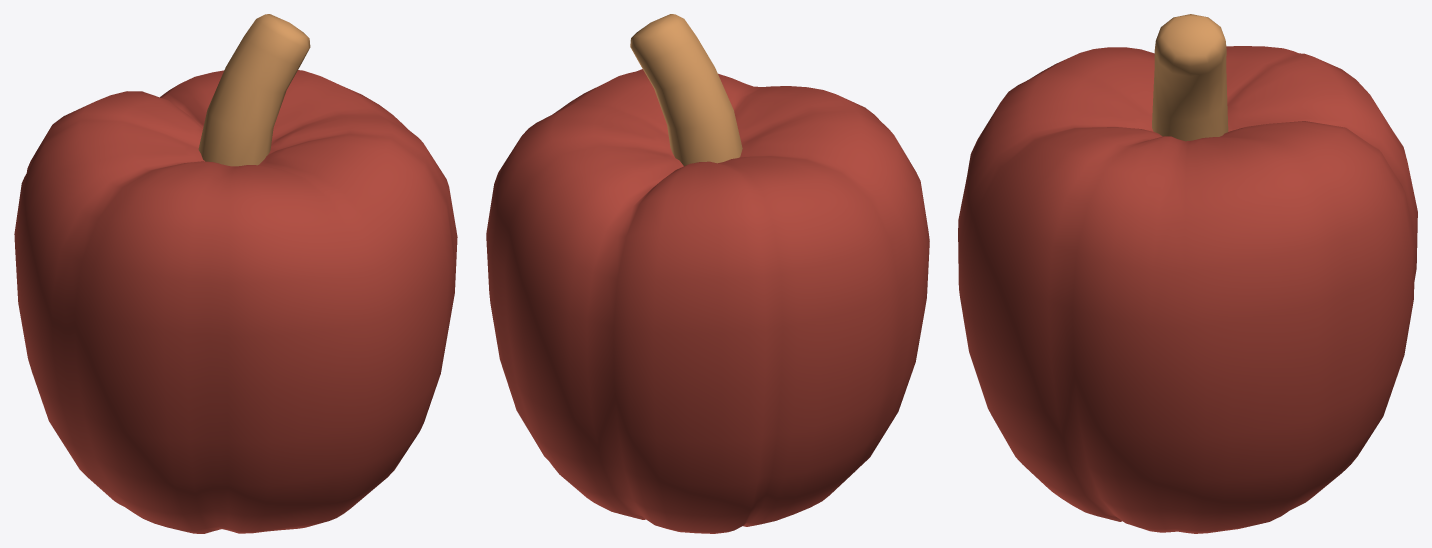
Rendered from Capsicum_01.dae.
3 views of the same model, side by side, from view 1: azimuth 30°, elevation 25°; view 2: azimuth 150°, elevation 25°; view 3: azimuth 270°, elevation 25° (orthographic). The views are drawn at different scales.
Parts seen in each view (by area): view 1: Capsicum_01_LOD0; view 2: Capsicum_01_LOD0; view 3: Capsicum_01_LOD0.
Part boxes in pixels (box(x1,y1,x2,y2)): Capsicum_01_LOD0: box(14, 14, 457, 533); Capsicum_01_LOD0: box(486, 14, 929, 533); Capsicum_01_LOD0: box(958, 14, 1417, 533).
Size of what is drawn, in the model's own units: 3.98 by 3.91 by 4.66.
